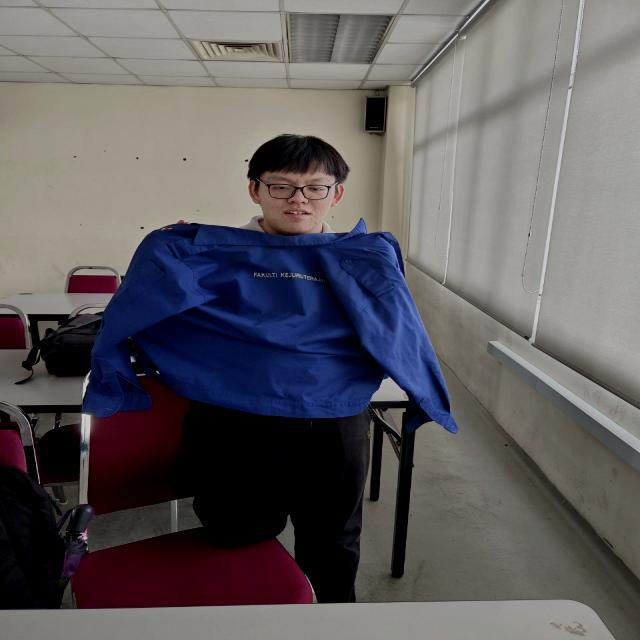person_without_labcoat: (247, 134, 349, 182)
